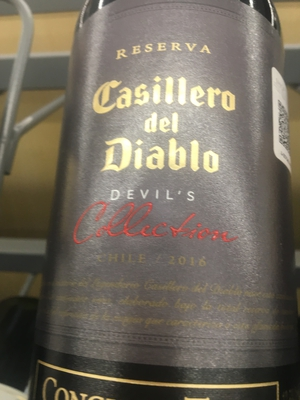casillero del diablo devils collection rojo: (37, 2, 296, 400)
